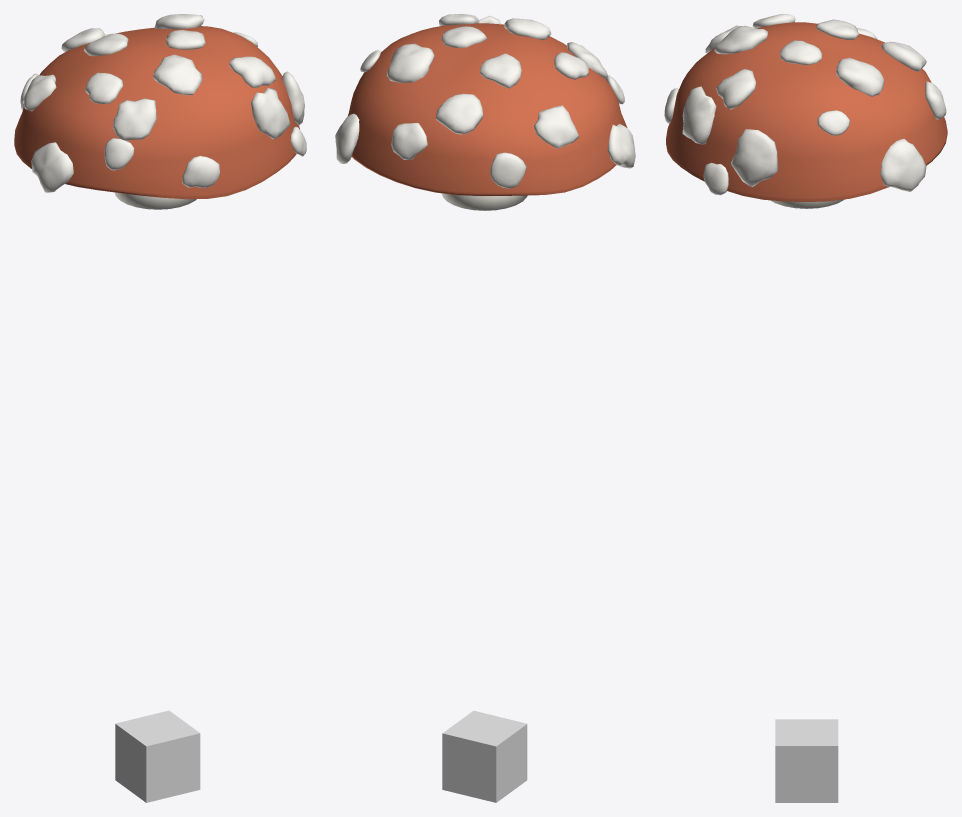
Rendered from PaddenstoelMuziek.fbx.
3 renders of one model, left to right at view 1: azimuth 30°, elevation 25°; view 2: azimuth 150°, elevation 25°; view 3: azimuth 270°, elevation 25°, orthographic.
Visible parts, largest first — view 1: hoed_0, stip_0, anker_0, steel_0; view 2: hoed_0, stip_0, anker_0, steel_0; view 3: hoed_0, stip_0, anker_0.
Part boxes in pixels (left/top/right/bottom): hoed_0: left=14, top=26, right=299, bottom=199; stip_0: left=20, top=14, right=306, bottom=193; anker_0: left=115, top=710, right=200, bottom=802; steel_0: left=114, top=192, right=196, bottom=209; hoed_0: left=347, top=23, right=627, bottom=195; stip_0: left=335, top=14, right=635, bottom=188; anker_0: left=442, top=710, right=527, bottom=802; steel_0: left=441, top=193, right=527, bottom=210; hoed_0: left=666, top=22, right=947, bottom=201; stip_0: left=664, top=14, right=946, bottom=195; anker_0: left=775, top=719, right=838, bottom=802.
Size of the model in its own units: 0.9556 by 2.65 by 0.899.
